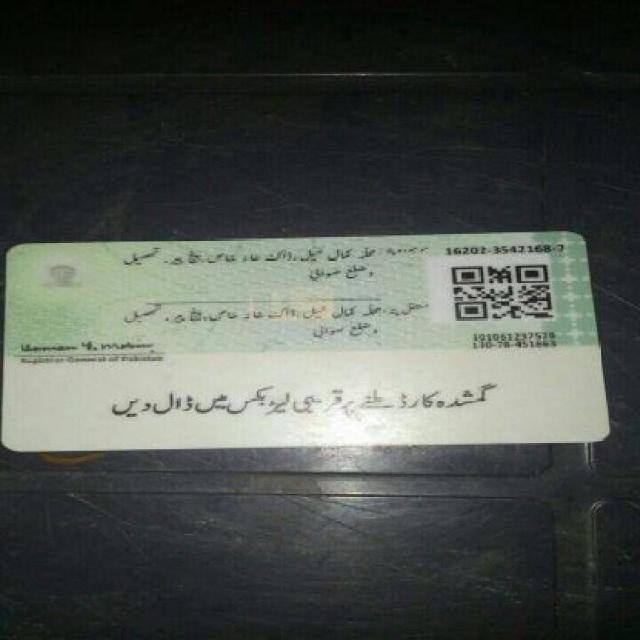Back: (6, 226, 612, 454)
